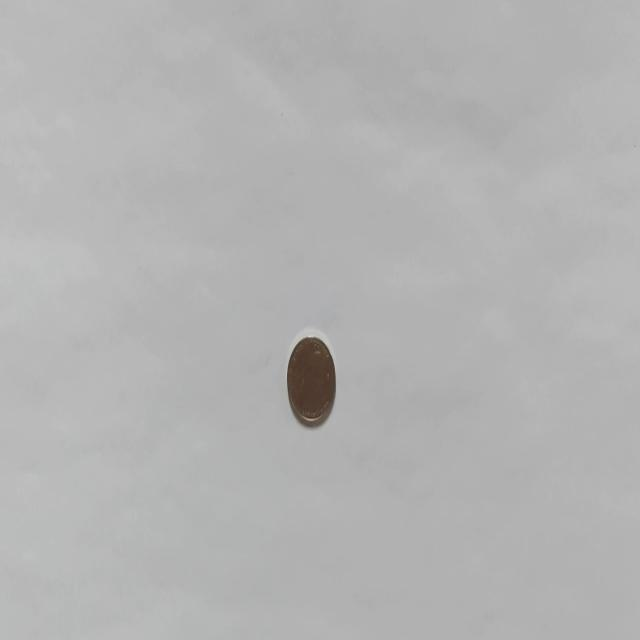seribu rupiah koin: (285, 327, 337, 428)
